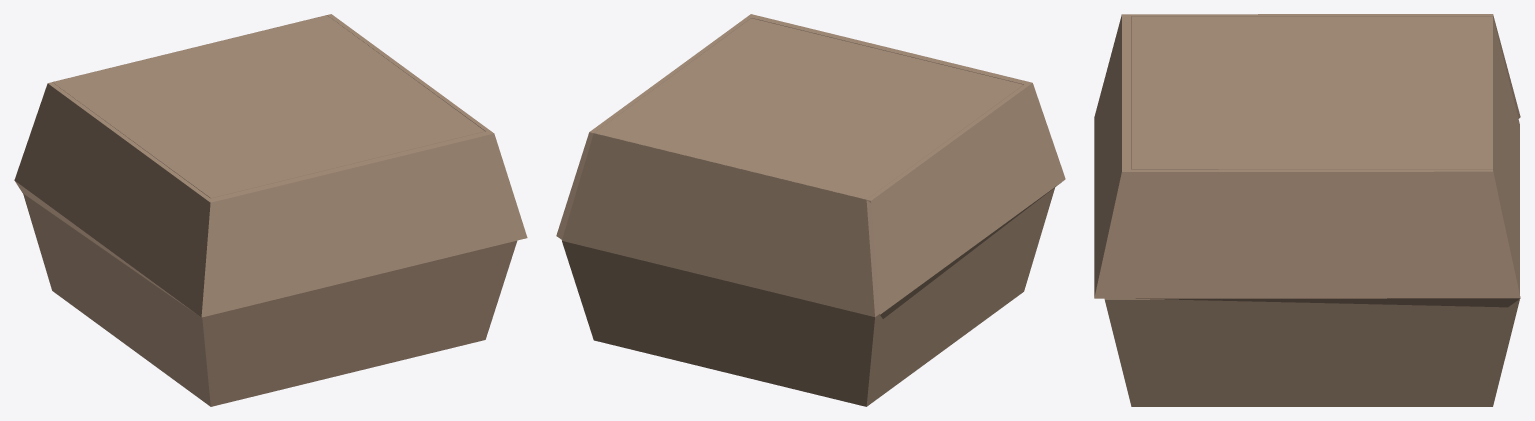
File: Burger.FBX
3 renders of one model, left to right at view 1: azimuth 30°, elevation 25°; view 2: azimuth 150°, elevation 25°; view 3: azimuth 270°, elevation 25°, orthographic. The views are drawn at different scales.
Visible parts, largest first — view 1: burger box top, burger box bottom; view 2: burger box bottom, burger box top; view 3: burger box top, burger box bottom.
Part boxes in pixels (bbox=[...]): burger box top: bbox=[14, 14, 527, 317]; burger box bottom: bbox=[23, 15, 517, 406]; burger box bottom: bbox=[562, 18, 1054, 406]; burger box top: bbox=[556, 14, 1065, 318]; burger box top: bbox=[1094, 14, 1520, 307]; burger box bottom: bbox=[1104, 16, 1519, 406].
Size of the model in its own units: 0.1372 by 0.084 by 0.1364.
